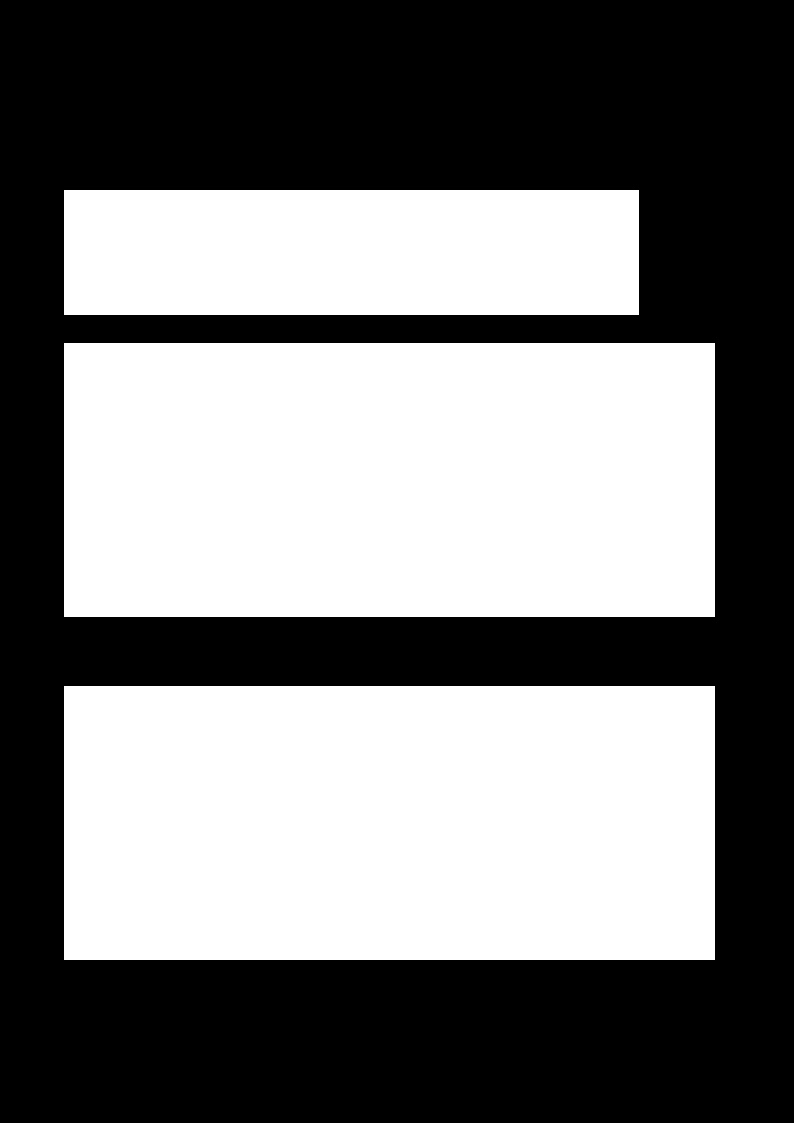table: (64, 343, 714, 616), (64, 686, 714, 959), (64, 190, 638, 314)
